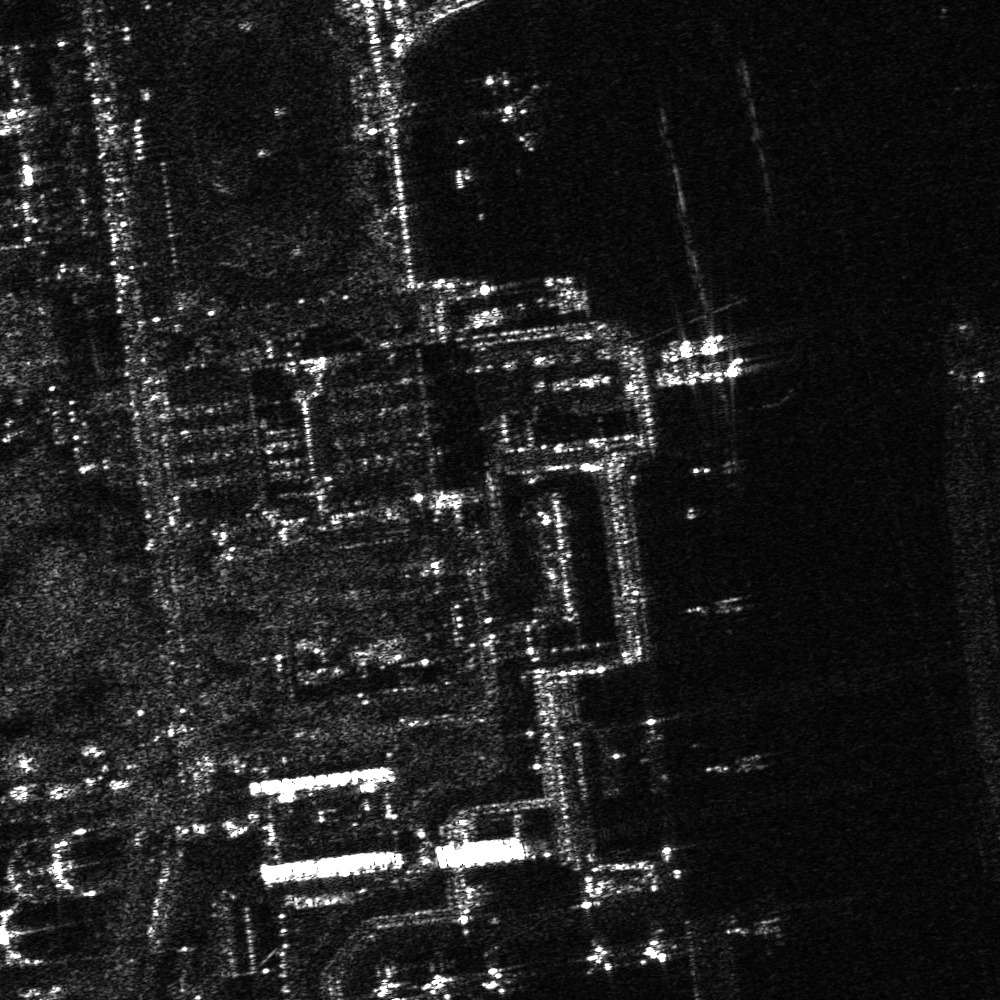Boeing787: (459, 65, 544, 157)
other: (479, 962, 513, 997), (637, 936, 671, 968), (584, 941, 616, 973), (422, 968, 454, 999), (372, 971, 403, 999)
